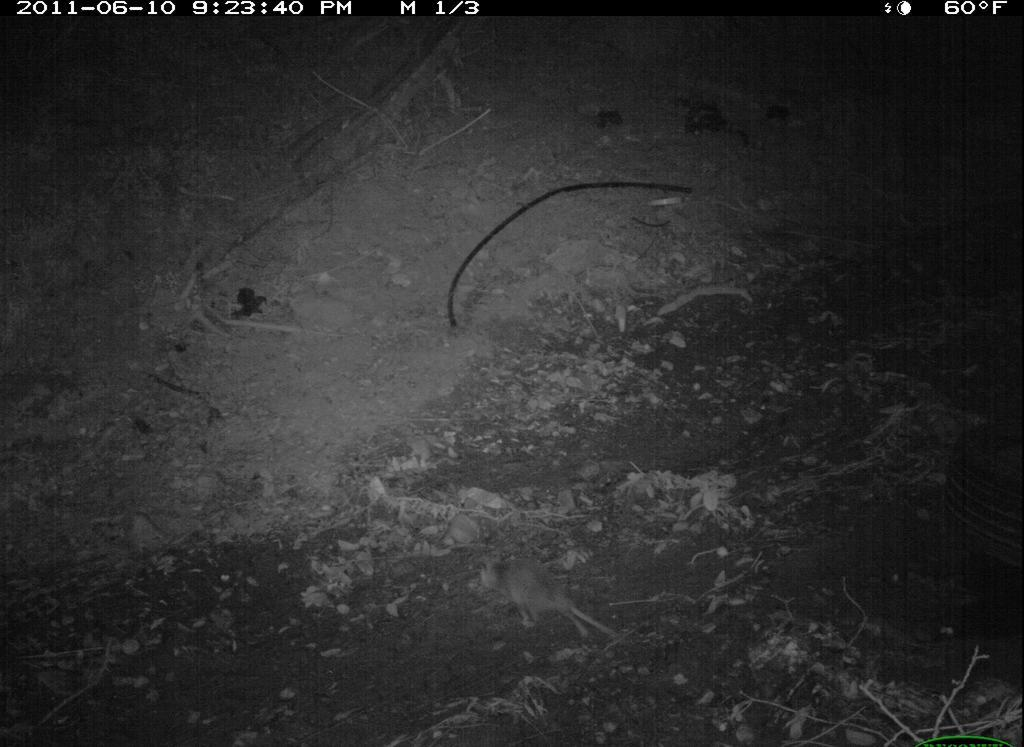opossum: (466, 555, 632, 652)
